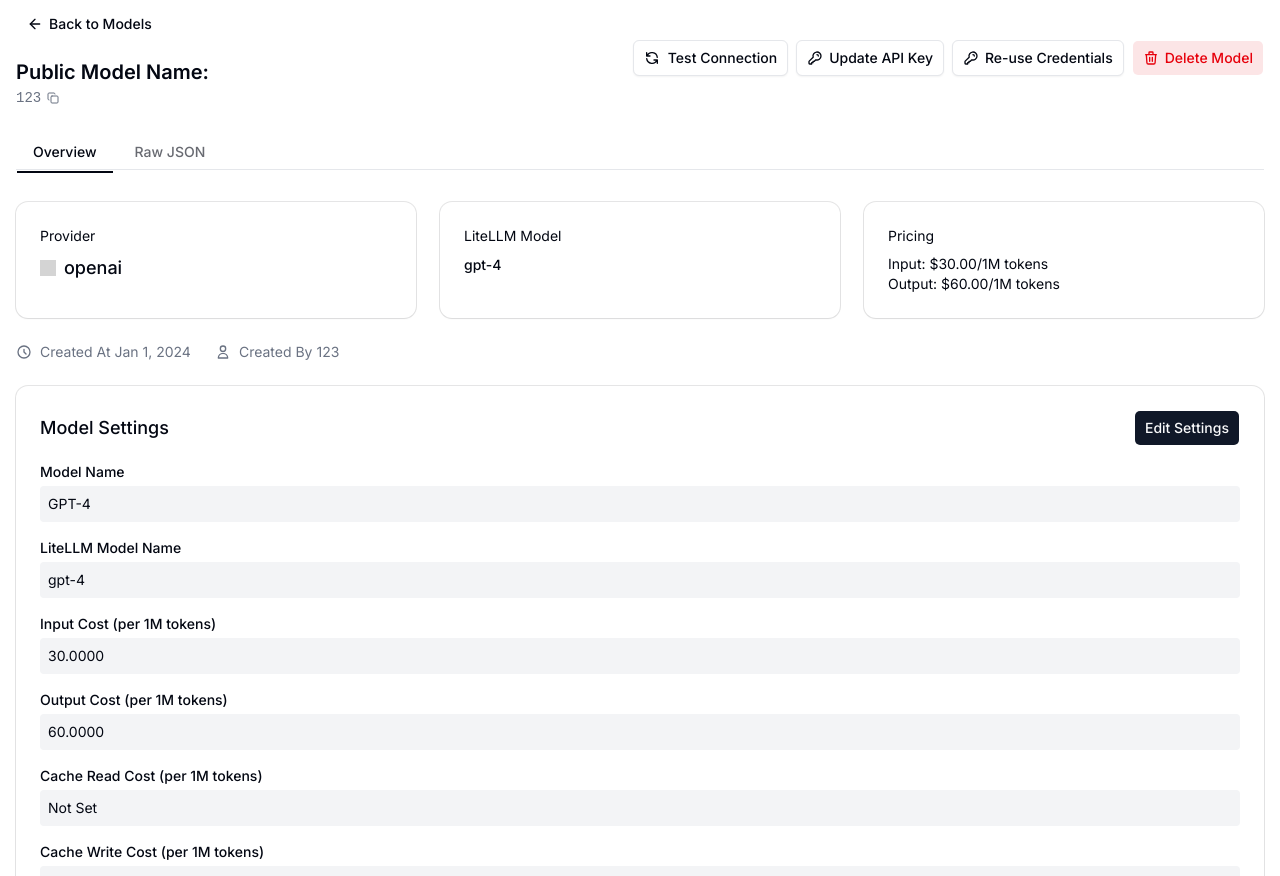
Test: ModelInfoView › should cancel editing when cancel button is clicked
The image size is (1280, 876).
Click the button "Edit Settings" at {"x": 1187, "y": 428}, box x1=1134 y1=410 x2=1240 y2=446
(page scrolled)
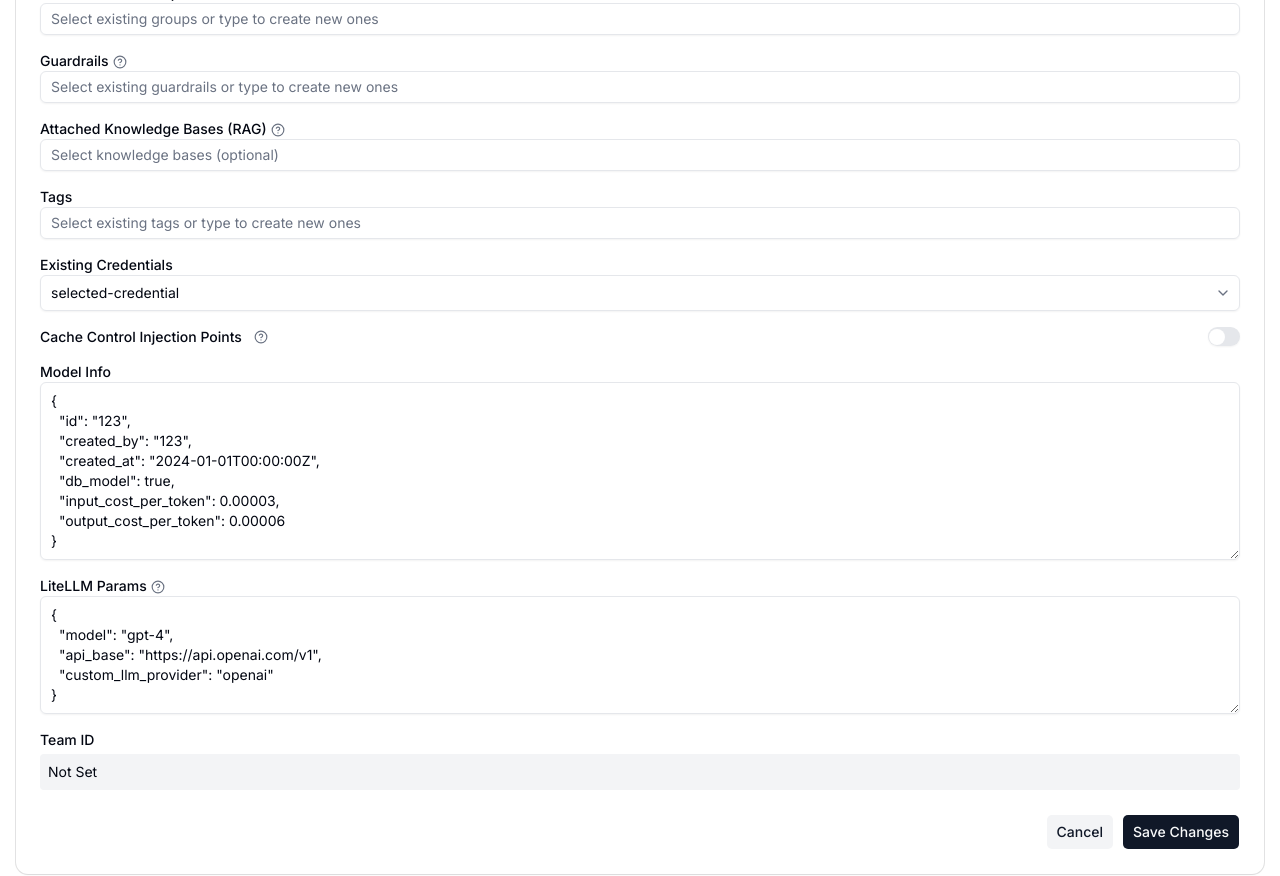
Now the button "Cancel" is shown
Click the button "Cancel" at {"x": 1080, "y": 832}, box x1=1046 y1=814 x2=1114 y2=850
(page scrolled)
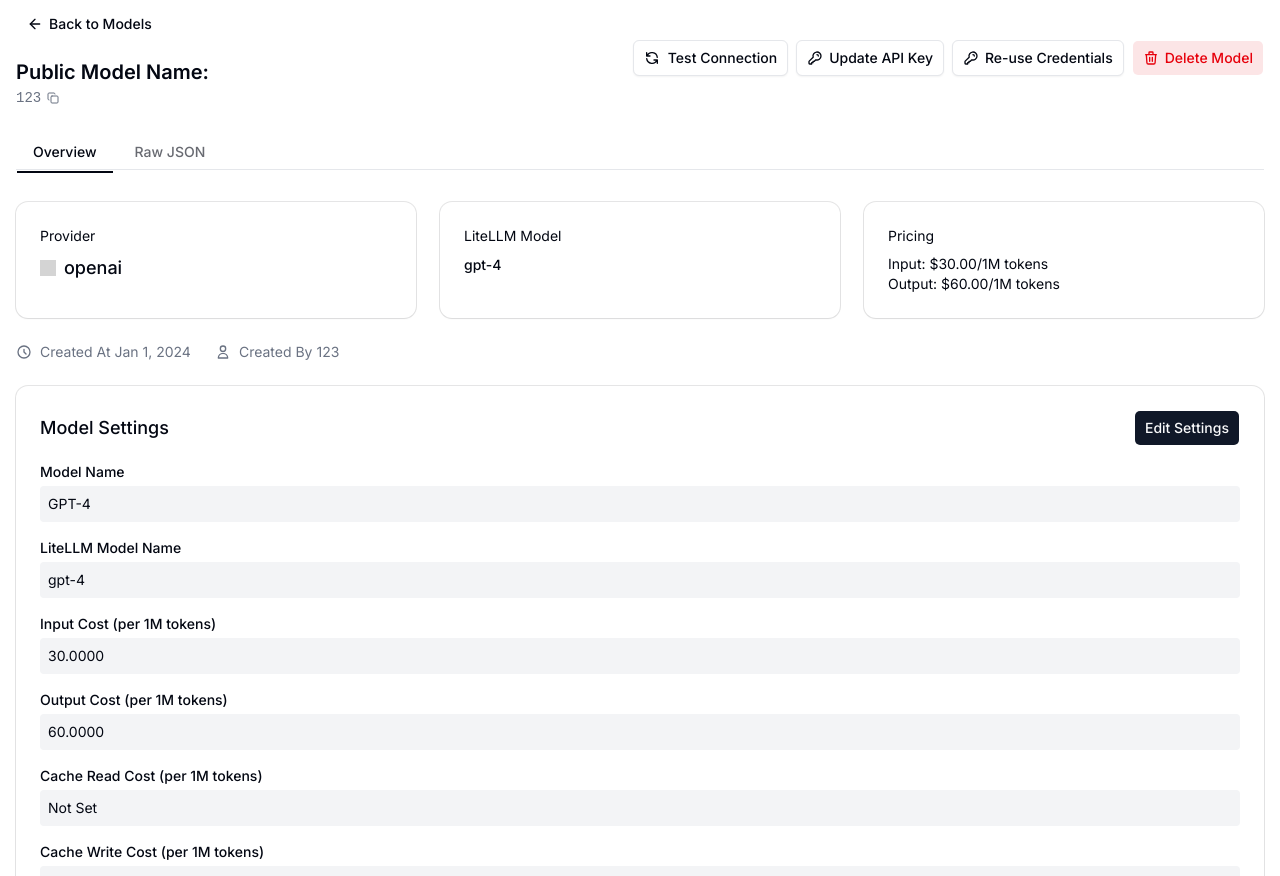
Now the button "Edit Settings" is shown, box x1=1134 y1=410 x2=1240 y2=446
Now the button "Save Changes" is gone
